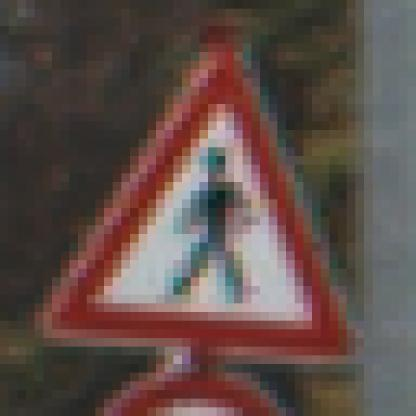crosswalk: (70, 38, 361, 390)
